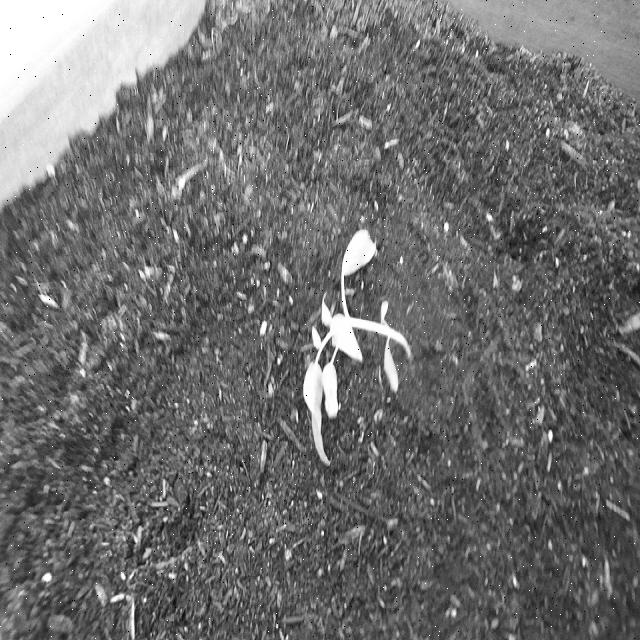Unhealthy: (299, 211, 417, 476)
